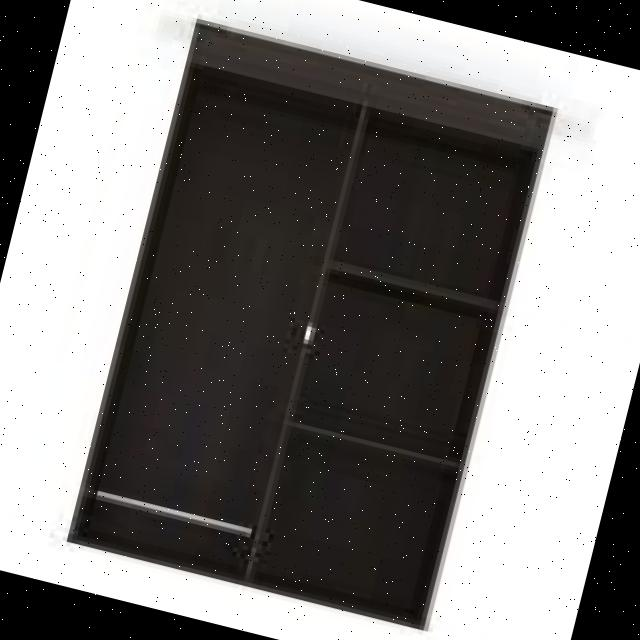Closet: (55, 6, 562, 640)
